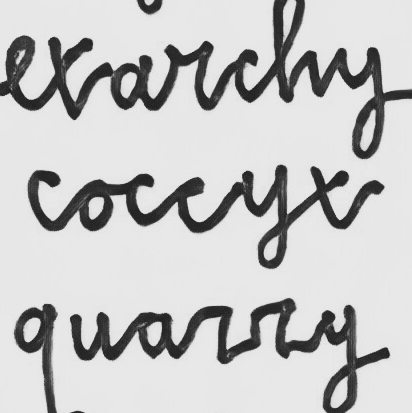c: (173, 174, 216, 236), (25, 167, 64, 235), (122, 171, 159, 228)
o: (76, 176, 115, 235)
x: (298, 164, 353, 232)
y: (236, 162, 293, 272)
